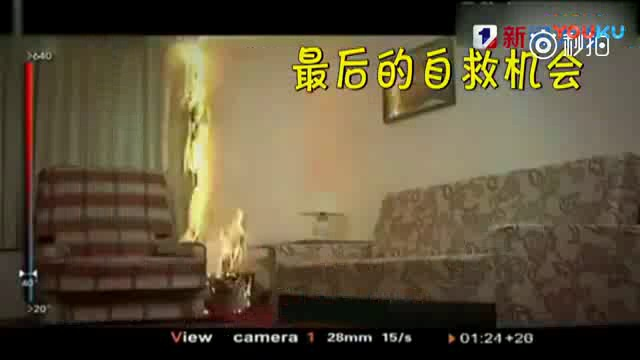fire: (169, 42, 211, 241), (218, 210, 250, 282)
